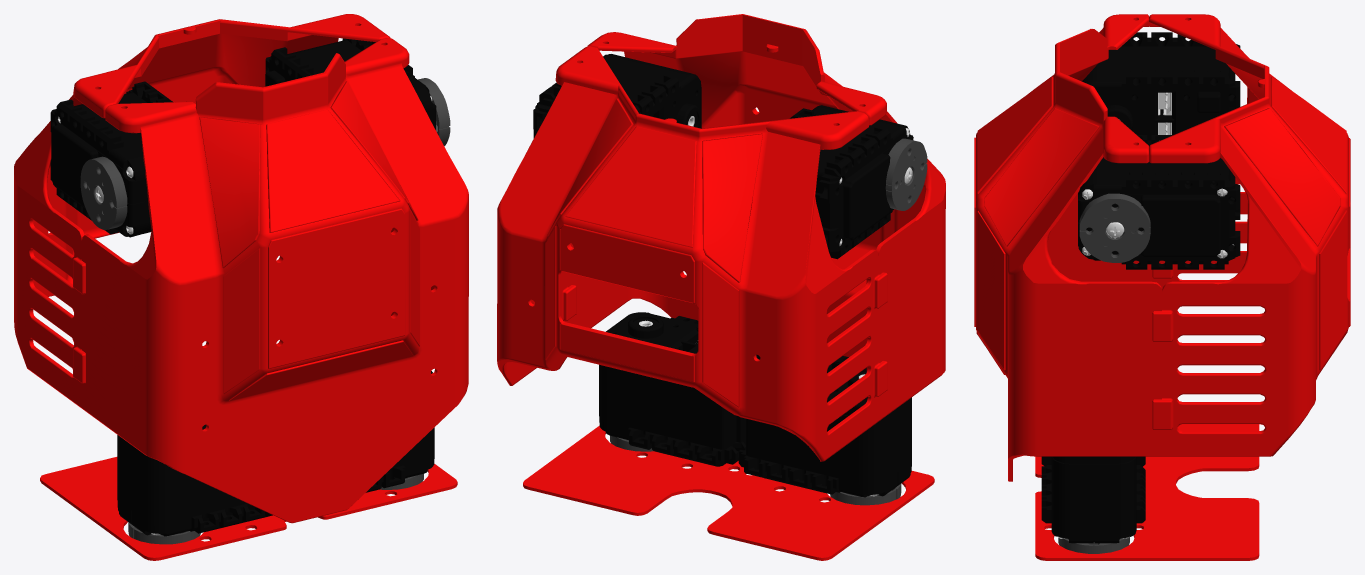
File: Torso.obj
3 renders of one model, left to right at view 1: azimuth 30°, elevation 25°; view 2: azimuth 150°, elevation 25°; view 3: azimuth 270°, elevation 25°, orthographic.
Visible parts, largest first — view 1: Solid1, ASSY_DUMMY___, Solid6, DC04_B01_HORN2_DUMMY; view 2: Solid1, ASSY_DUMMY___, Solid6, DC04_B01_HORN2_DUMMY; view 3: Solid1, ASSY_DUMMY___, Solid6, DC04_B01_HORN2_DUMMY, 099990987____.
Part boxes in pixels (x1,y1,x2,y2): Solid1: (14,14,468,523); ASSY_DUMMY___: (50,38,436,536); Solid6: (40,457,457,560); DC04_B01_HORN2_DUMMY: (80,78,450,544); Solid1: (497,14,945,461); ASSY_DUMMY___: (533,54,913,497); Solid6: (523,425,934,560); DC04_B01_HORN2_DUMMY: (610,138,927,505); Solid1: (974,14,1350,481); ASSY_DUMMY___: (1041,32,1240,543); Solid6: (1035,424,1259,560); DC04_B01_HORN2_DUMMY: (1058,193,1150,553); 099990987____: (1158,92,1171,134).
Size of the model in its own units: 4.6 by 5.78 by 4.57.
